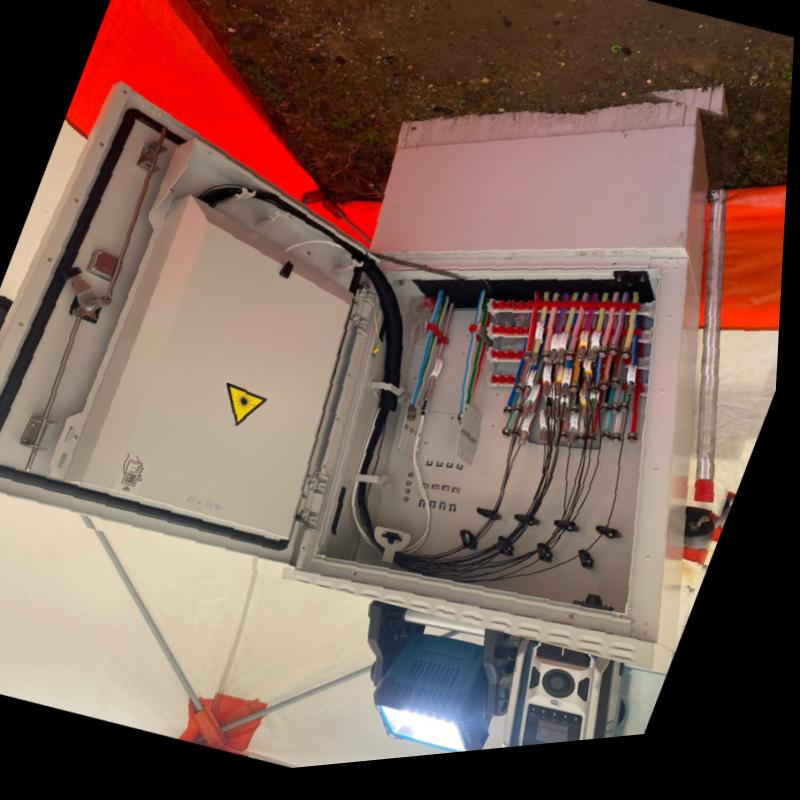NT-Gehause: (0, 88, 724, 682)
